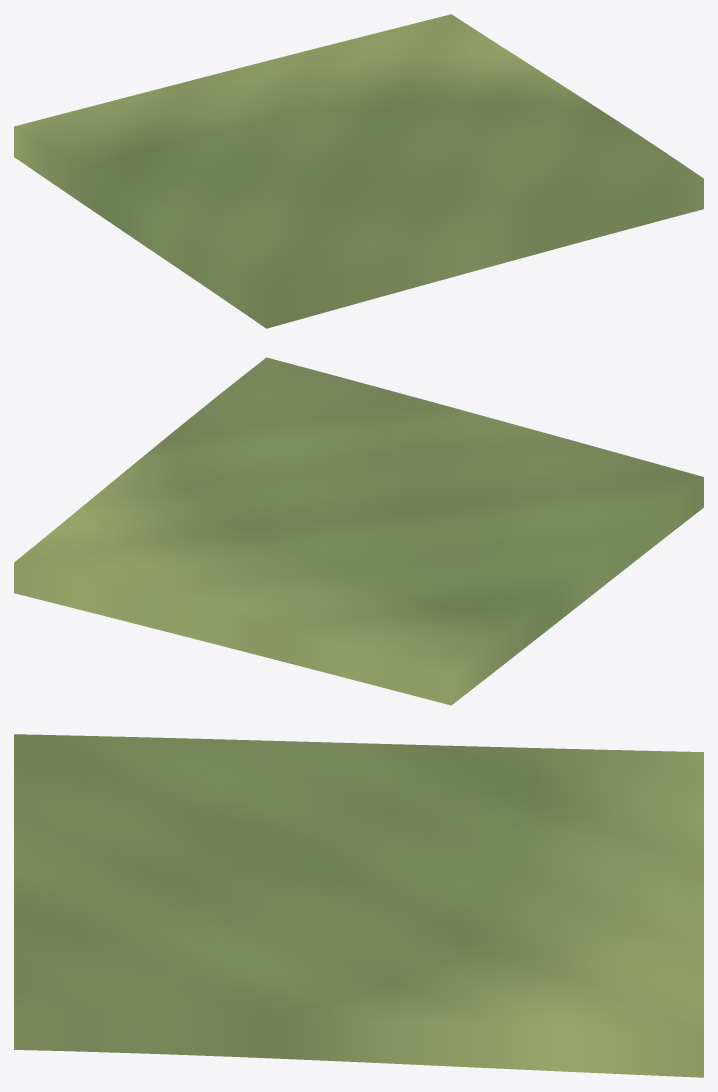
3 views of the same model, one above another, from view 1: azimuth 30°, elevation 25°; view 2: azimuth 150°, elevation 25°; view 3: azimuth 270°, elevation 25° (orthographic). The views are drawn at different scales.
Parts seen in each view (by area): view 1: terrain; view 2: terrain; view 3: terrain.
Boxes of the visible parts, x1,y1,x2,y2 form: terrain: (14,14,703,328); terrain: (14,357,703,705); terrain: (14,734,703,1077).
Size of the model in its own units: 30 by 3.7 by 30.
